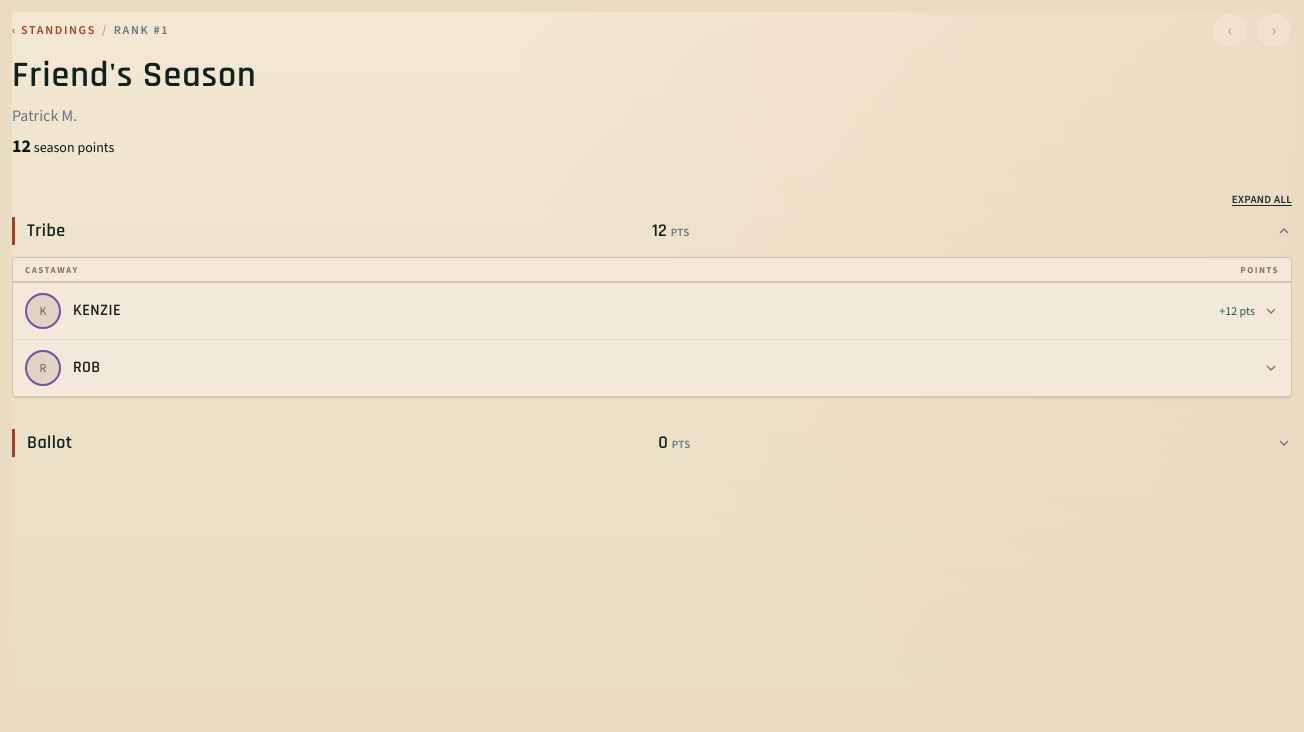
Scenario: TeamPage › expands another player roster row instead of linking to the cast page
Expected: the text "Patrick M." is shown, 12,105 -> 77,126
What coordinates should you click on to do the following:
click the text "Kenzie"
I would click on:
 (97, 311)
Its box is 73,299 -> 121,323.
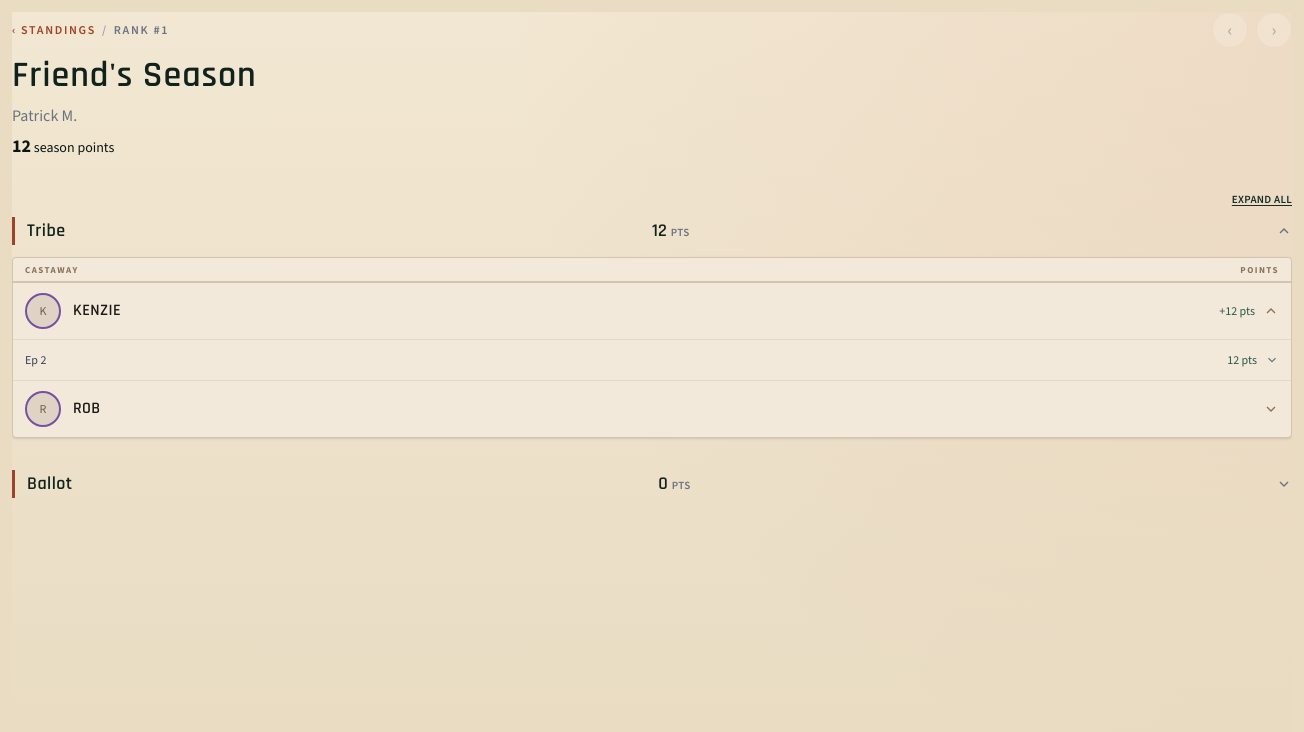
Expected: the button "Ep 2 12 pts" is shown, 25,352 -> 1279,368
Note: Expand all opens every castaway card, not only the one tapped (#827).
What coordinates should you click on to do the following:
click the button "Expand all"
I would click on:
 (1262, 200)
Its box is 1232,192 -> 1292,208.
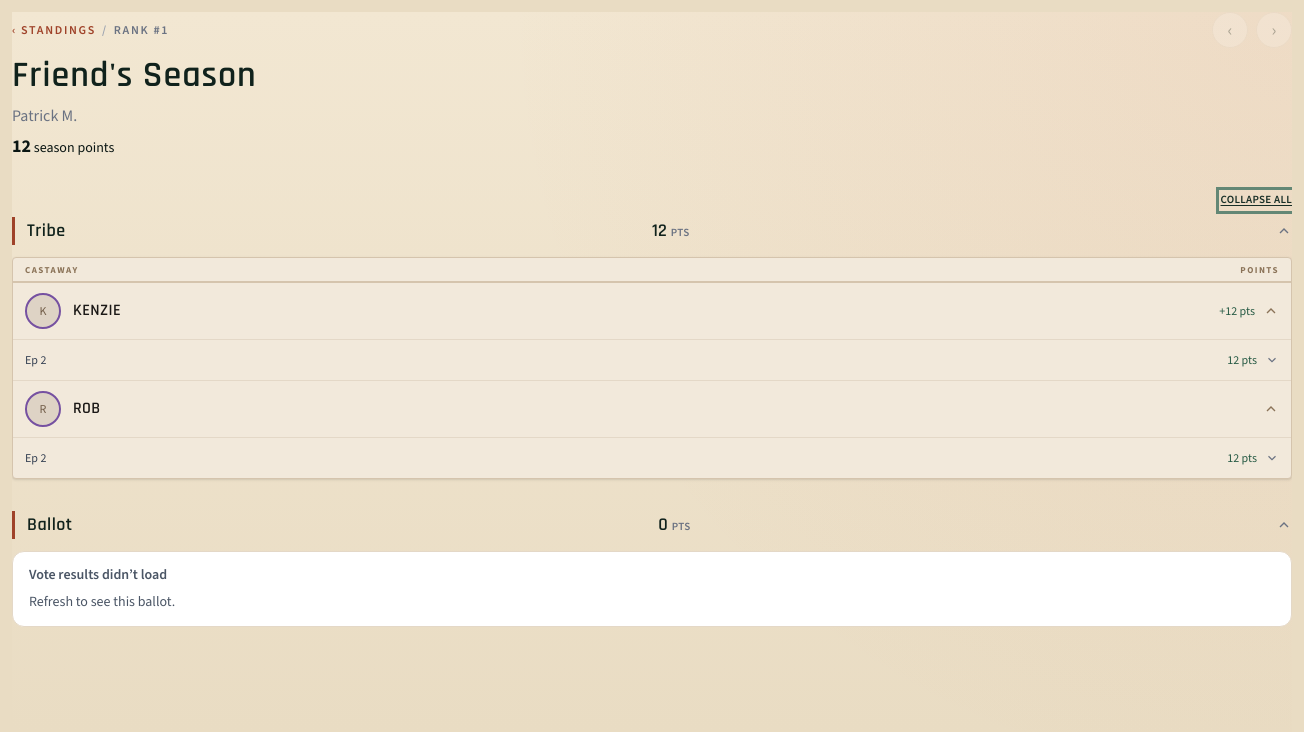
Expected: the number of buttons "Ep 2 12 pts" is 2, 25,352 -> 1279,368; 25,450 -> 1279,466
